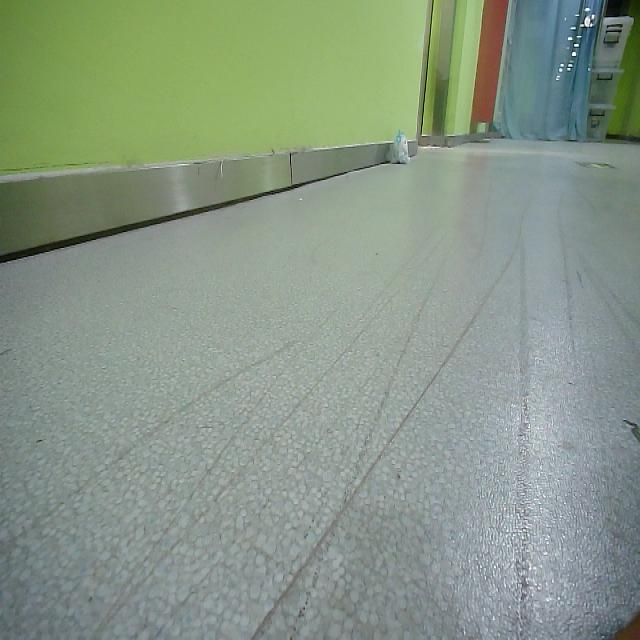xiaoba: (394, 129, 411, 171)
